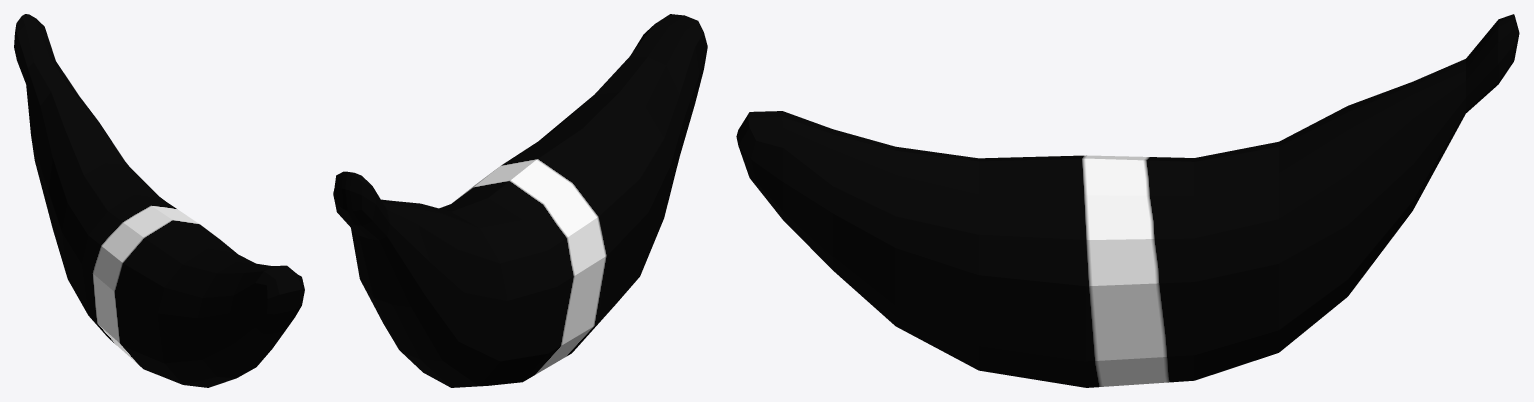
The model's file is fruta.fbx.
The picture shows the model from 3 angles, left to right: view 1: azimuth 30°, elevation 25°; view 2: azimuth 150°, elevation 25°; view 3: azimuth 270°, elevation 25°; orthographic projection. The views are drawn at different scales.
Parts seen in each view (by area): view 1: Cube; view 2: Cube; view 3: Cube.
Boxes of the visible parts, x1,y1,x2,y2 form: Cube: (14, 14, 304, 387); Cube: (333, 14, 707, 387); Cube: (736, 14, 1519, 387).
Bounding box in the file's own units: 146 × 315 × 608.
